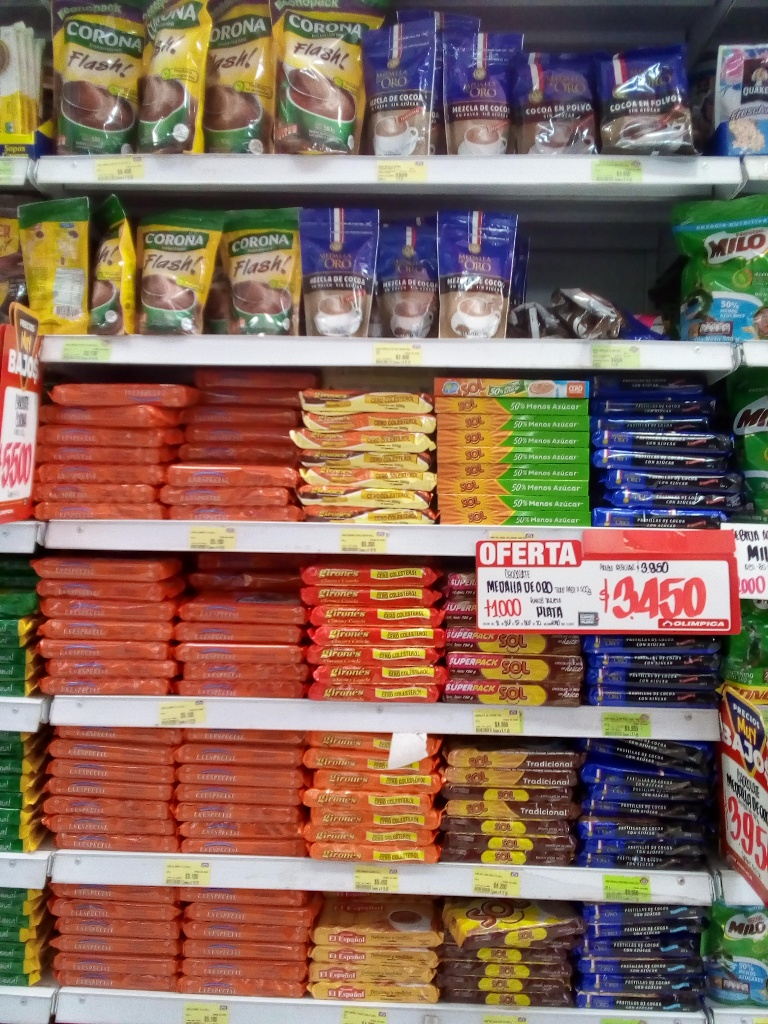COL0170205DYP50000: (675, 203, 765, 344)
